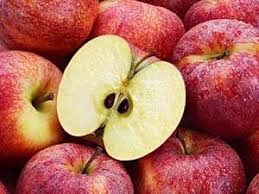apple: (169, 20, 259, 125), (140, 130, 244, 194), (1, 52, 67, 149), (93, 3, 189, 65), (17, 143, 130, 194), (2, 1, 91, 47)
damaged_apple: (59, 37, 187, 157)
